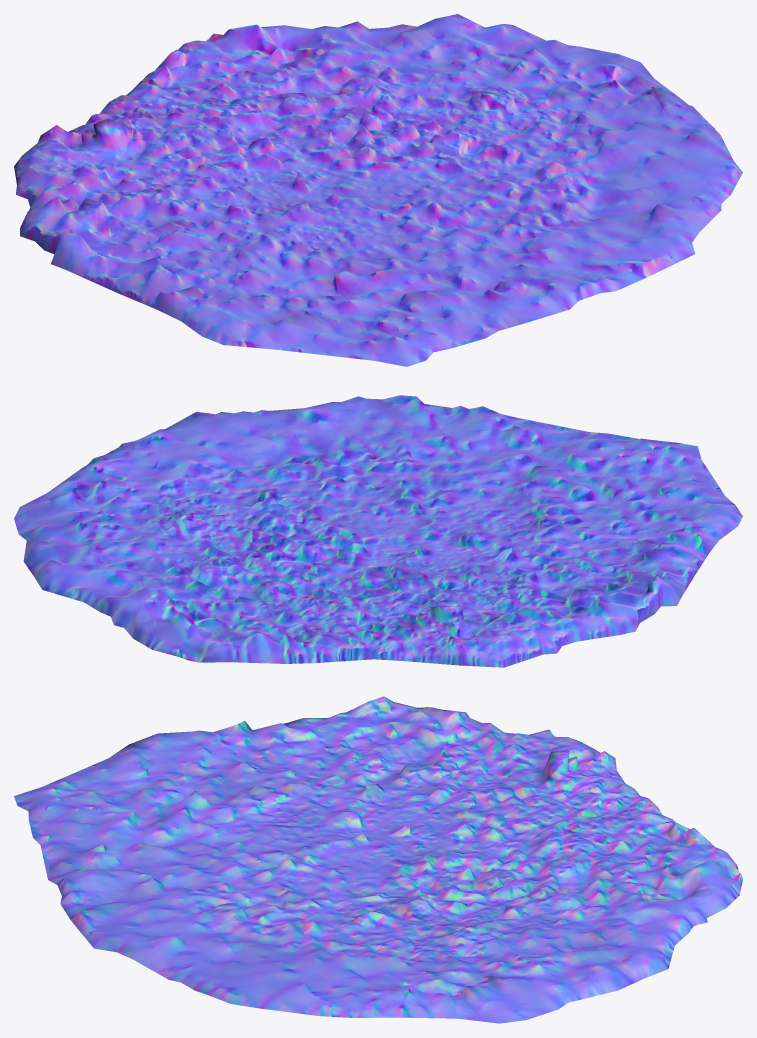
Rendered from TerrainDeco00 Mossy Variant.fbx.
3 renders of one model, top to bottom at view 1: azimuth 30°, elevation 25°; view 2: azimuth 150°, elevation 25°; view 3: azimuth 270°, elevation 25°, orthographic. The views are drawn at different scales.
Visible parts, largest first — view 1: TerrainDeco00_LOD0; view 2: TerrainDeco00_LOD0; view 3: TerrainDeco00_LOD0.
Boxes of the visible parts, x1,y1,x2,y2 form: TerrainDeco00_LOD0: (14, 14, 742, 366); TerrainDeco00_LOD0: (14, 395, 742, 667); TerrainDeco00_LOD0: (14, 696, 742, 1023).
Size of the model in its own units: 614 by 37.23 by 619.
